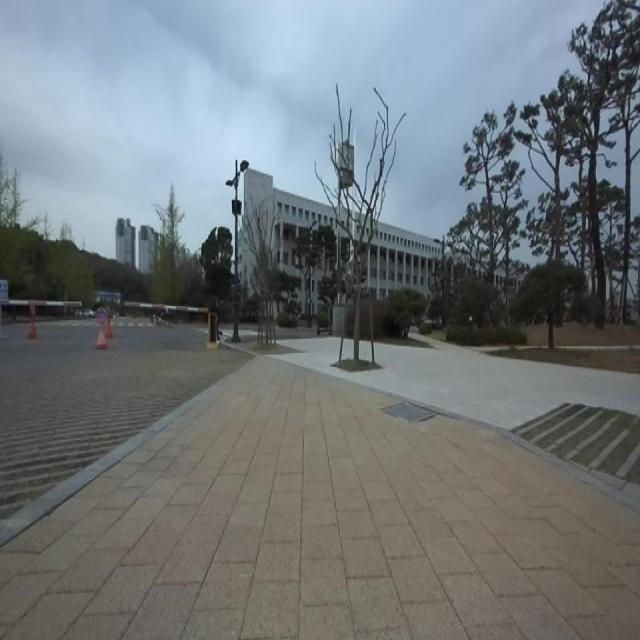sidewalk: (0, 356, 640, 639), (274, 338, 640, 429)
